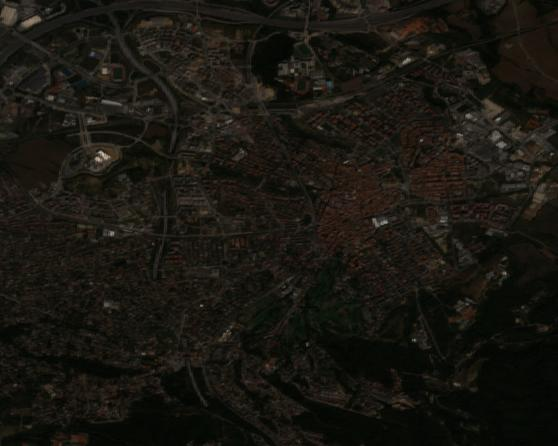Industria: (50, 13, 266, 174), (439, 87, 557, 193)
Poblacion: (1, 182, 318, 434), (267, 89, 548, 280), (147, 108, 300, 206)
